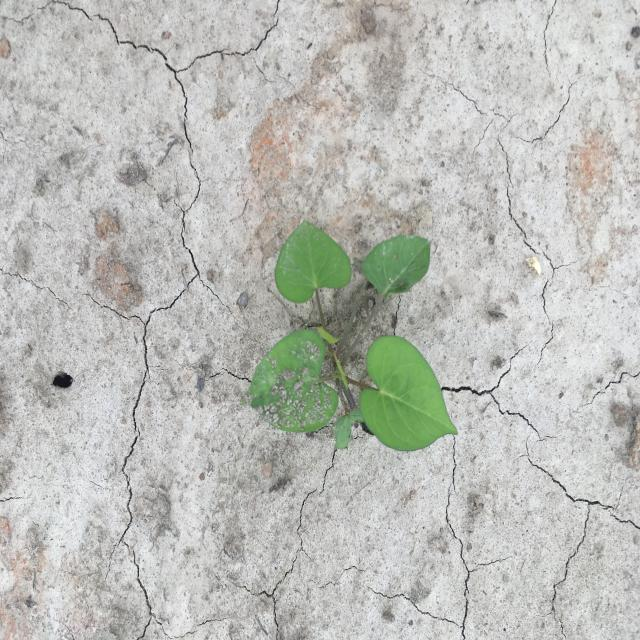MorningGlory: (240, 219, 458, 452)
